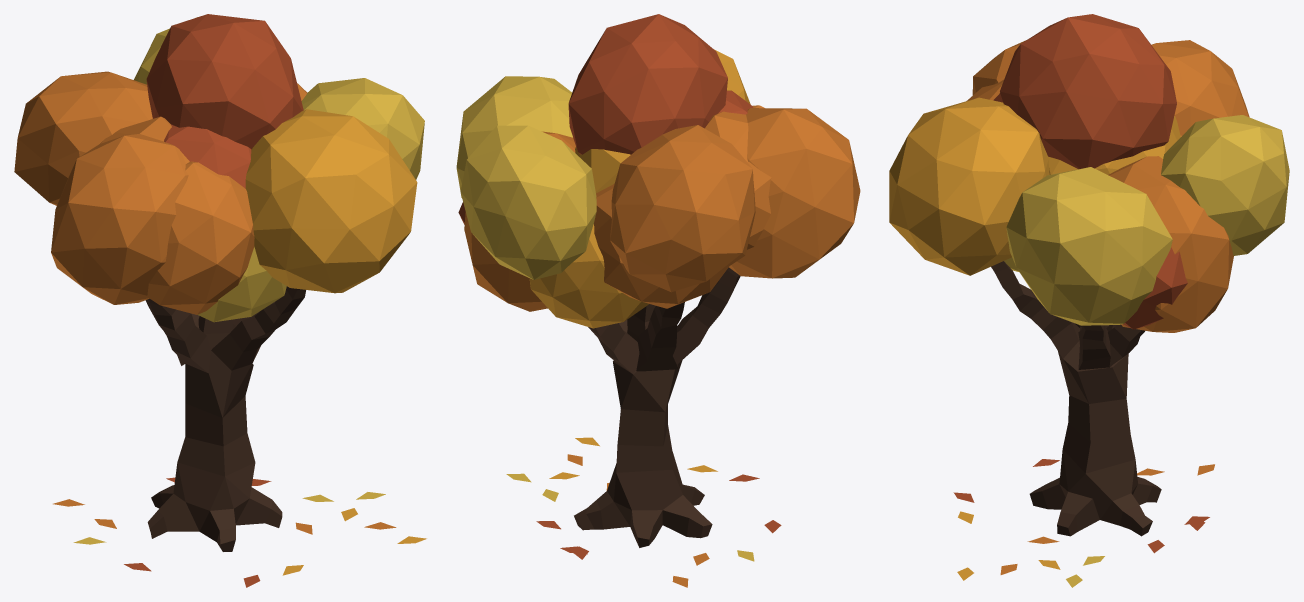
The model's file is SM_Tree_Oak_Autumn_01.glb.
The picture shows the model from 3 angles, left to right: view 1: azimuth 30°, elevation 25°; view 2: azimuth 150°, elevation 25°; view 3: azimuth 270°, elevation 25°; orthographic projection. The views are drawn at different scales.
Visible parts, largest first — view 1: SM_Tree_Oak_Autumn_01; view 2: SM_Tree_Oak_Autumn_01; view 3: SM_Tree_Oak_Autumn_01.
Boxes of the visible parts, left/top/right/bottom form: SM_Tree_Oak_Autumn_01: left=14, top=14, right=426, bottom=587; SM_Tree_Oak_Autumn_01: left=456, top=14, right=860, bottom=587; SM_Tree_Oak_Autumn_01: left=889, top=14, right=1289, bottom=587.
Size of the model in its own units: 3.7 by 4.72 by 3.45.
